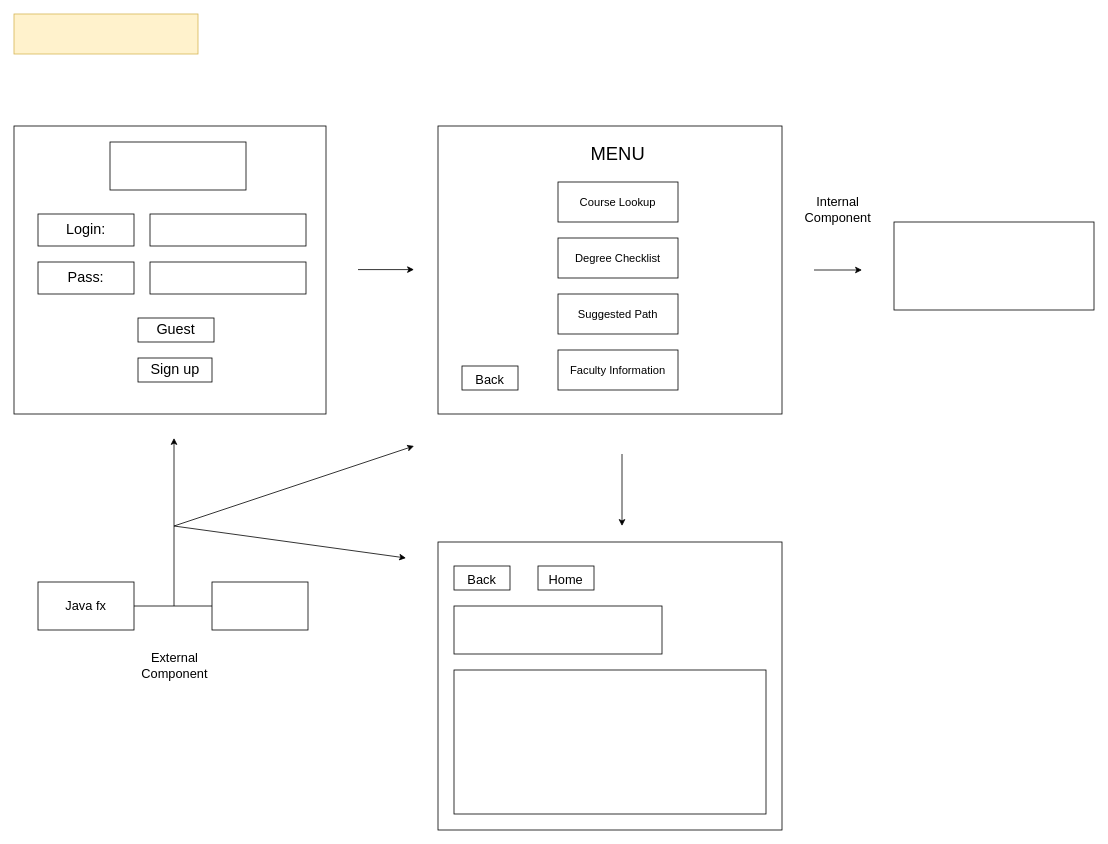
Image size: 1108x844. Some labels were removed from this diagram. Here are the shapes that lost their labels. From the top down, the centre of each, then its label:
At pixel 105 33: "Iteration 1: Architecture".
At pixel 177 165: "Course Explorer".
At pixel 993 265: "Classes for user (Course information, pre reqs, credits completed etc)".
At pixel 259 605: "Yorku Courses Website".
At pixel 557 629: "One of the options from Menu".
At pixel 609 741: "Description".
